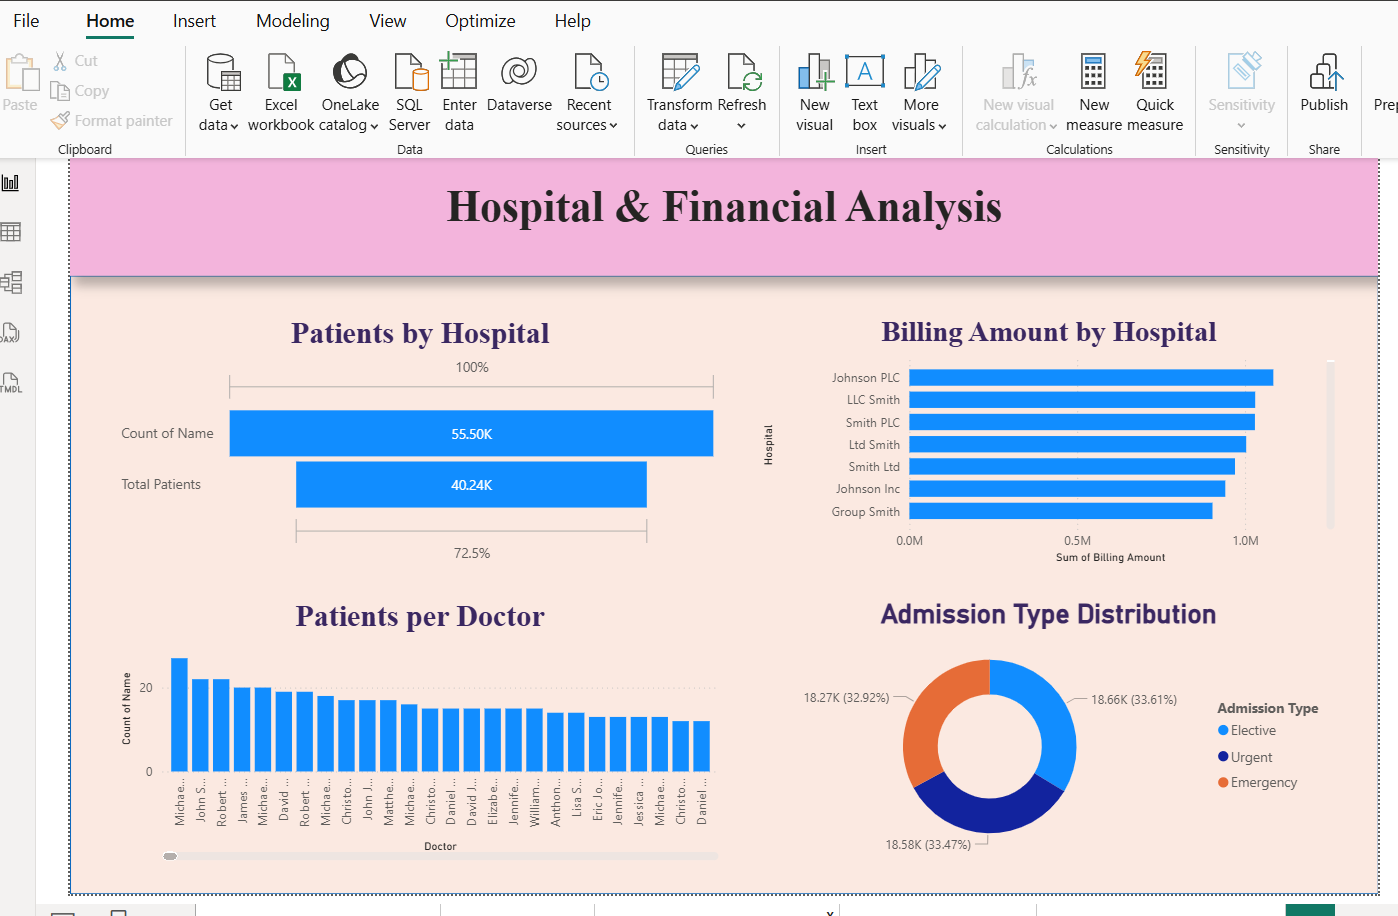

The page's visual inventory and layout, read from the dashboard file:
{"tool":"powerbi","page":{"name":"Hospital & Financial Analysis","canvas":[1280,720],"ordinal":2},"visuals":[{"type":"shape","box":[0,114.9,1280.3,605.3],"z":0},{"type":"textbox","box":[0,0,1280,115],"z":1000},{"type":"funnel","title":"Patients by Hospital","fields":{"Y":["CountNonNull(healthcare_dataset.Name)","Count(healthcare_dataset.Name)"]},"box":[45.2,154.1,594.3,248.2],"z":3000},{"type":"clusteredBarChart","title":"Billing Amount by Hospital","fields":{"Category":["healthcare_dataset.Hospital"],"Y":["Sum(healthcare_dataset.Billing Amount)"]},"box":[672.6,154.1,569.8,248.2],"z":4000},{"type":"clusteredColumnChart","title":"Patients per Doctor","fields":{"Category":["healthcare_dataset.Doctor"],"Y":["CountNonNull(healthcare_dataset.Name)"]},"box":[45.2,430.4,594.3,261.7],"z":5000},{"type":"donutChart","title":"Admission Type Distribution","fields":{"Category":["healthcare_dataset.Admission Type"],"Y":["CountNonNull(healthcare_dataset.Name)"]},"box":[672.6,430.4,569.8,260.5],"z":6000}]}

Visuals, with their boxes on the page's 1280x720 design canvas (x1, y1, x2, y2). These are canvas units, not pixel positions in the 1398x916 screenshot, which may show the page scaled, cropped or inside an application window:
shape: box=[0, 115, 1280, 720]
textbox: box=[0, 0, 1280, 115]
"Patients by Hospital" funnel: box=[45, 154, 640, 402]
"Billing Amount by Hospital" clusteredBarChart: box=[673, 154, 1242, 402]
"Patients per Doctor" clusteredColumnChart: box=[45, 430, 640, 692]
"Admission Type Distribution" donutChart: box=[673, 430, 1242, 691]
